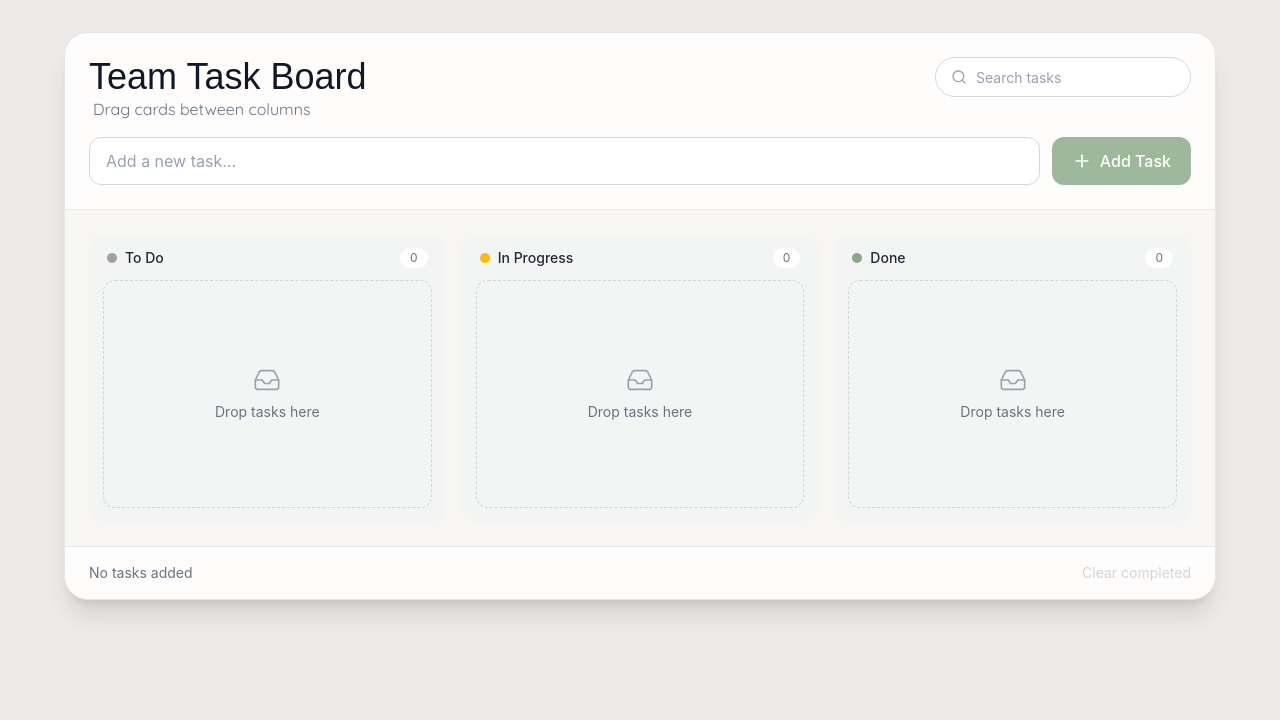
Scenario: TaskBoard User Interaction & Flow Tests › should add task on title type and click, and reset input value
The width and height of the screenshot is (1280, 720).
# User types task title and clicks add
Type "Integration Flow Task" into the field with placeholder "Add a new task...".
click(564, 161); type("Integration Flow Task")  # box [89,137,1040,185]
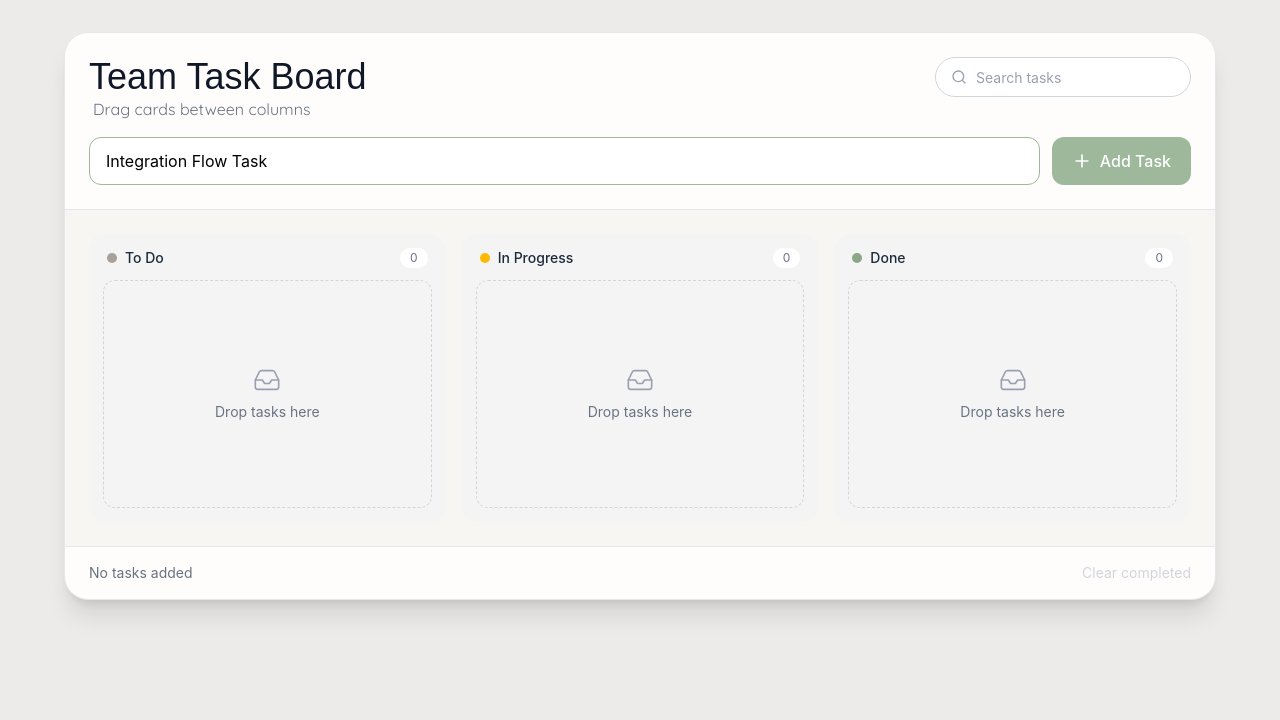
Click the button "Add Task".
click(1121, 161)  # box [1052,137,1191,185]
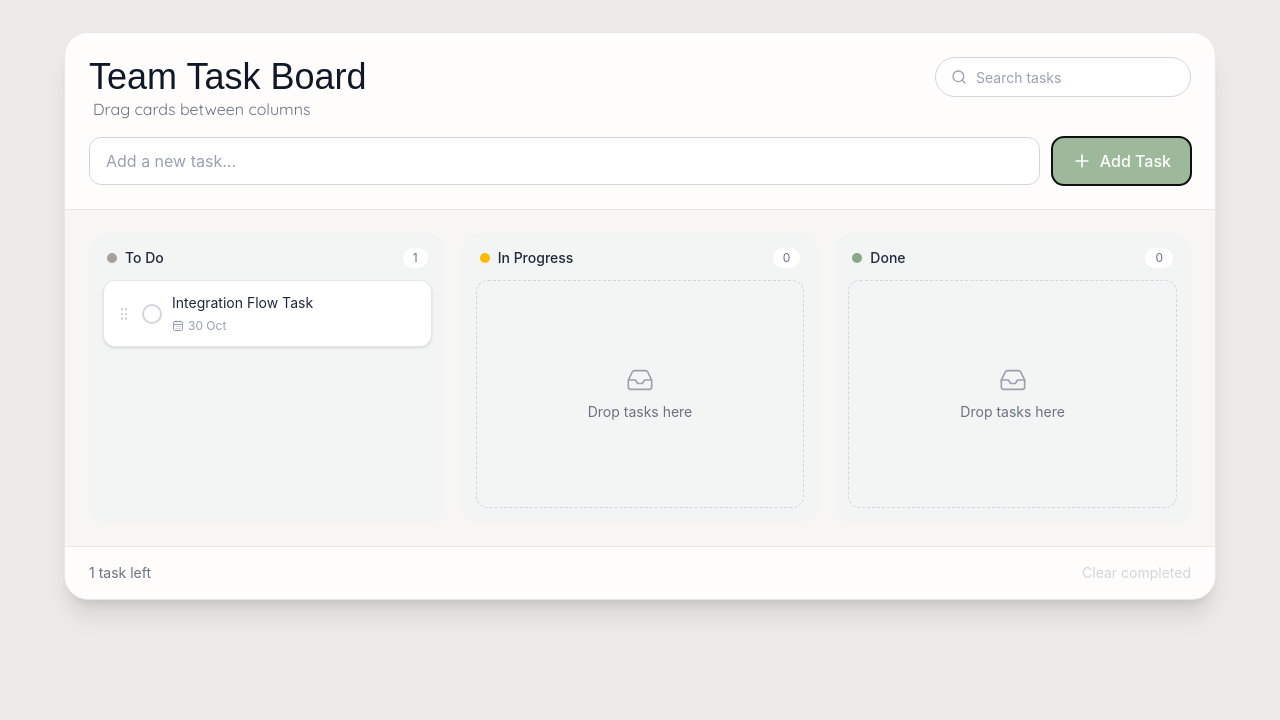
Now the text "Integration Flow Task" is shown, box [172,294,313,311]
Now the field with placeholder "Add a new task..." is empty, box [89,137,1040,185]
